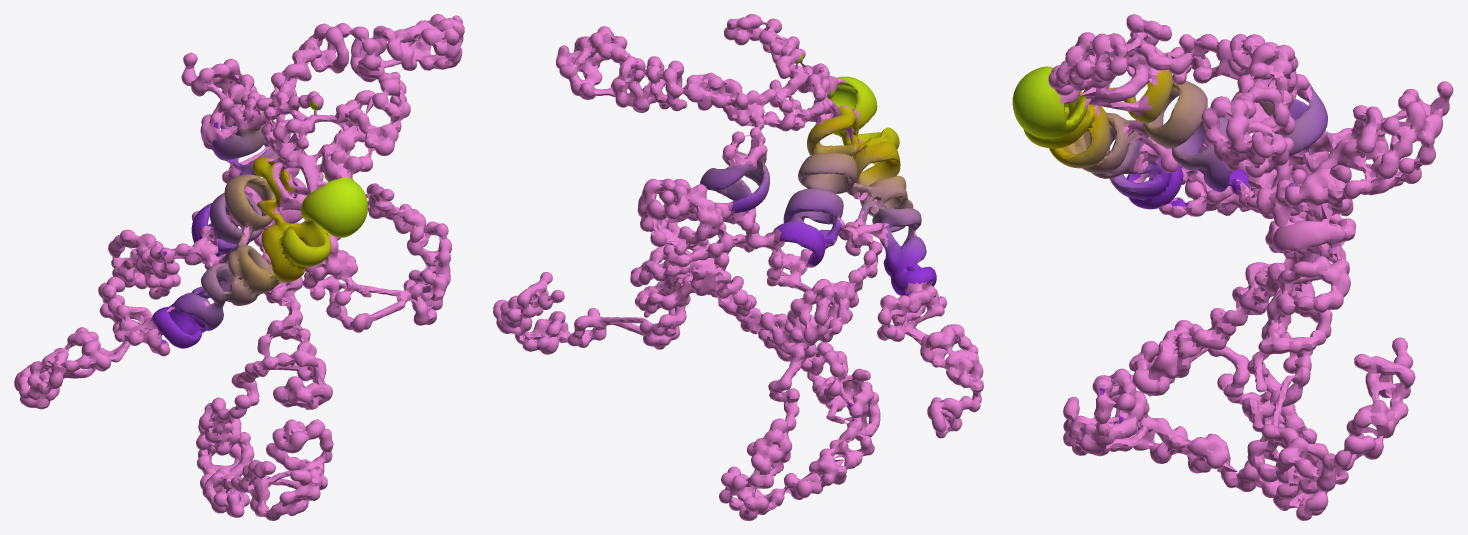
File: proteindna.glb
3 renders of one model, left to right at view 1: azimuth 30°, elevation 25°; view 2: azimuth 150°, elevation 25°; view 3: azimuth 270°, elevation 25°, orthographic. The views are drawn at different scales.
Visible parts, largest first — view 1: Mesh_0.001; view 2: Mesh_0.001; view 3: Mesh_0.001.
Boxes of the visible parts, x1,y1,x2,y2 form: Mesh_0.001: (14,14,464,520); Mesh_0.001: (493,14,983,520); Mesh_0.001: (1012,14,1453,520).
Size of the model in its own units: 1.99 by 1.8 by 1.36.
2 materials, 1 textured.
